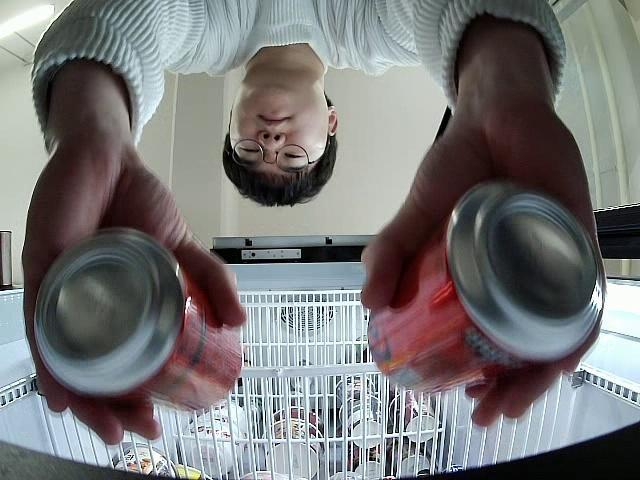11_cocaColaZero: (367, 180, 606, 393), (34, 225, 244, 412)
